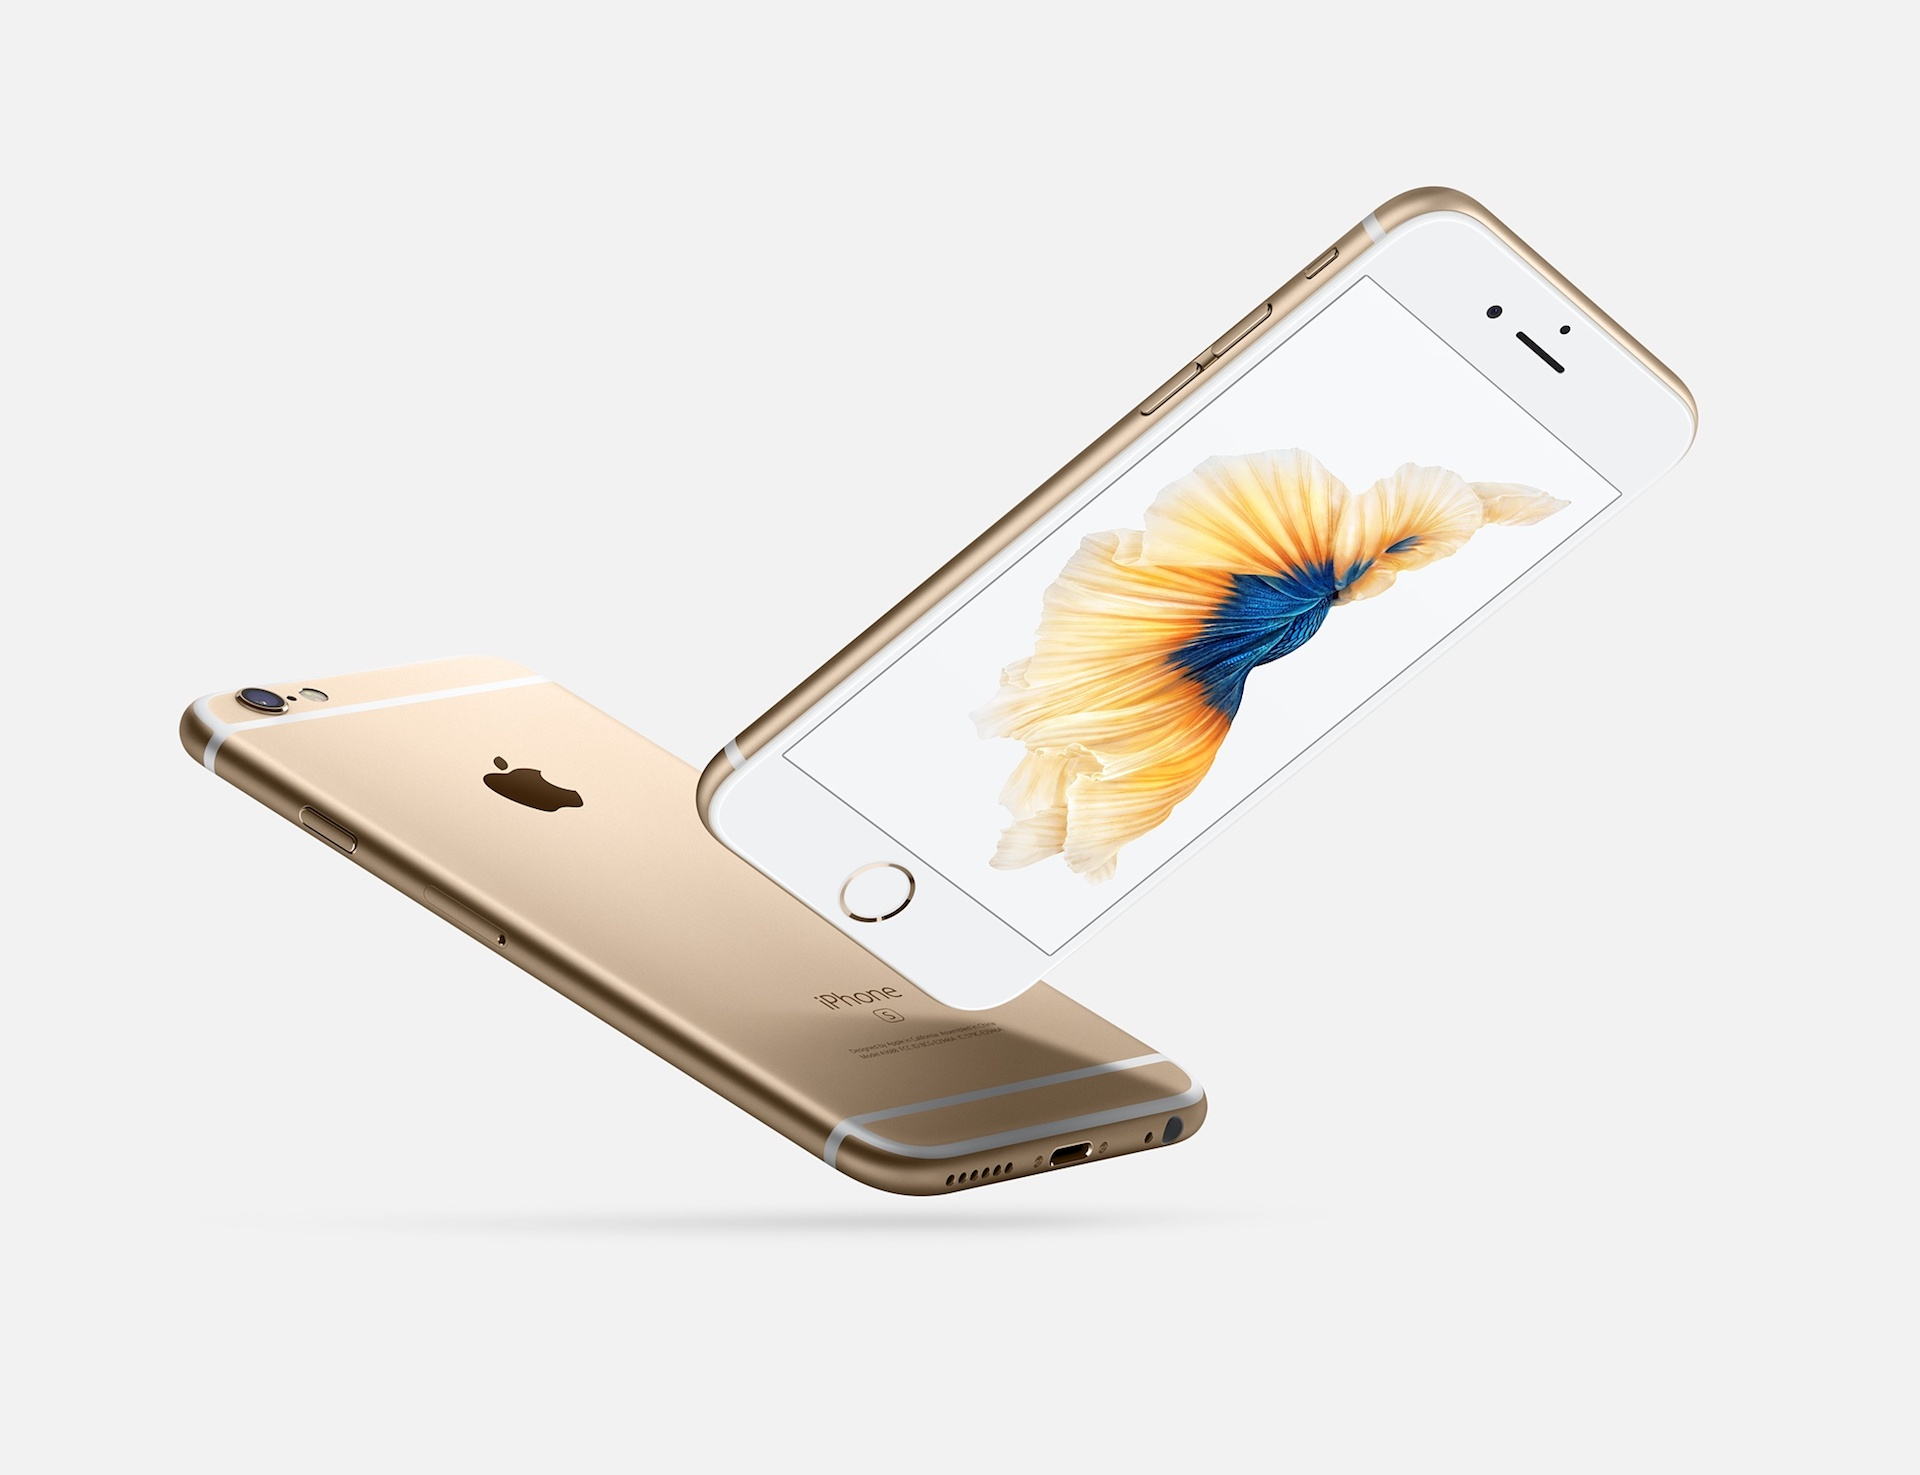smartphone: (686, 181, 1703, 1024), (177, 651, 1215, 1198)
